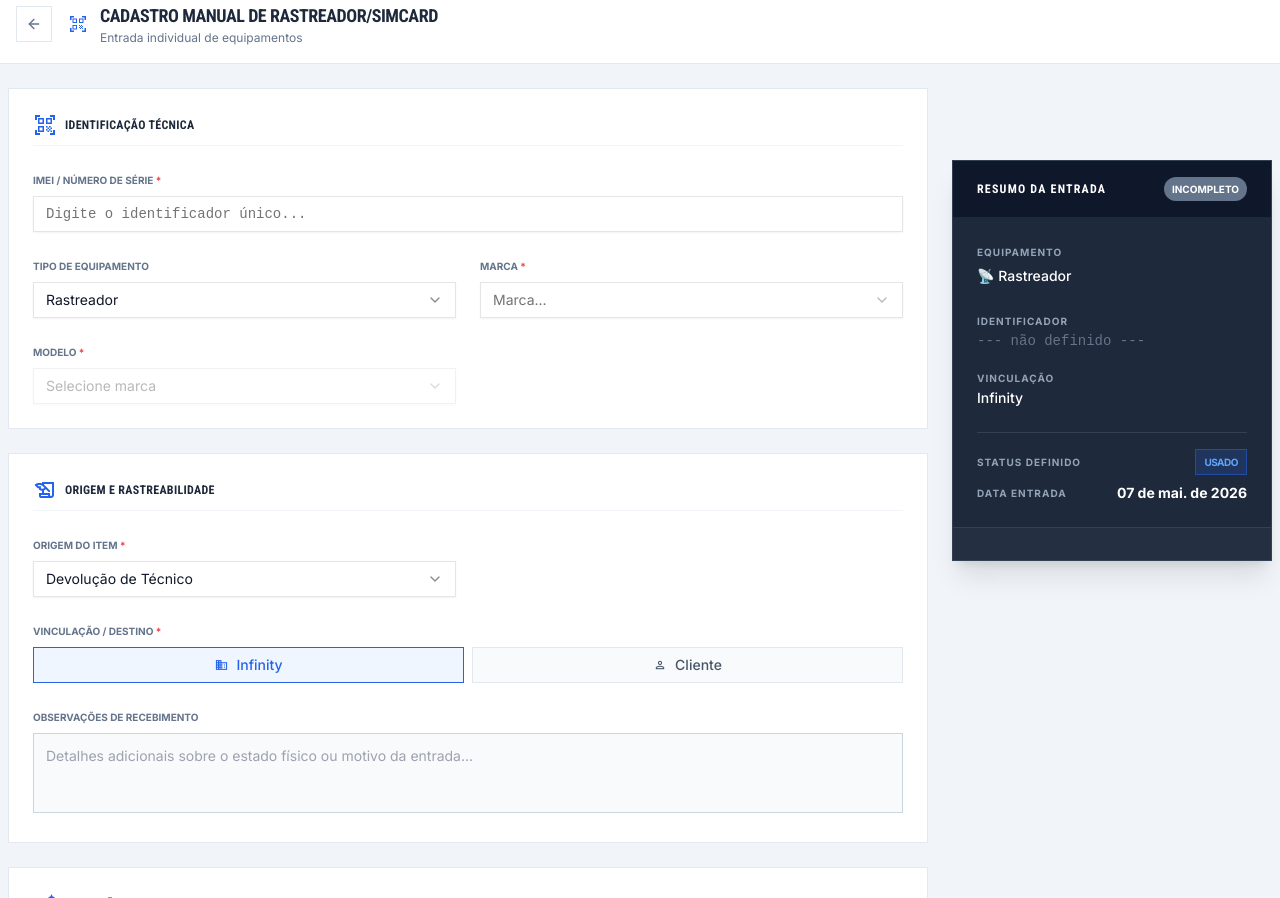
Test: CadastroIndividualPage (integrado, APIs mockadas) › formulário válido: resumo exibe PRONTO antes de salvar
Expected: the heading "Identificação Técnica" is shown, [65, 117, 194, 133]
Step 1. Type "123456789012345" into the field with placeholder "Digite o identificador único..." → (468, 214), box [33, 196, 903, 232]
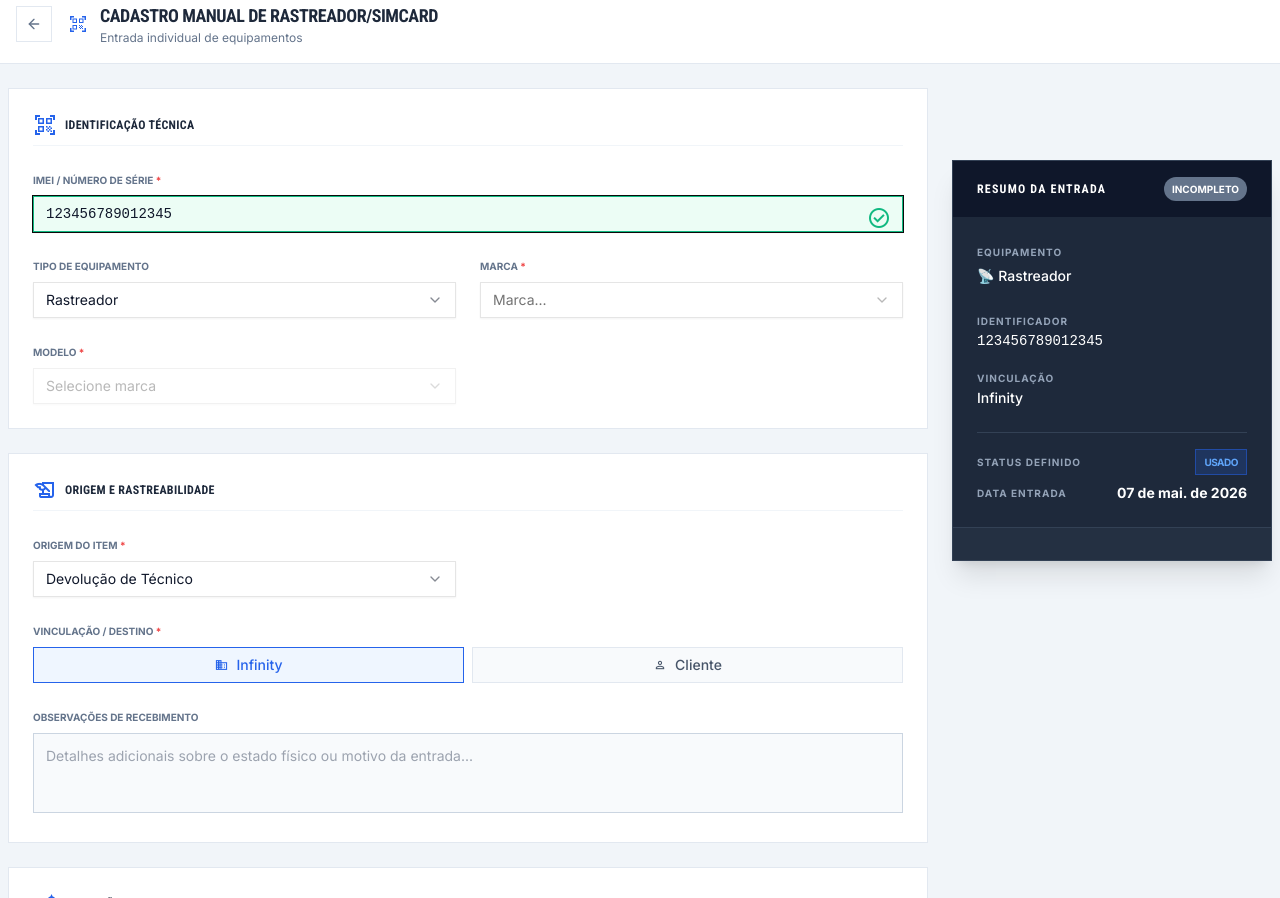
Step 2. Click the dropdown labelled "Marca..." → (520, 300), box [480, 282, 903, 318]
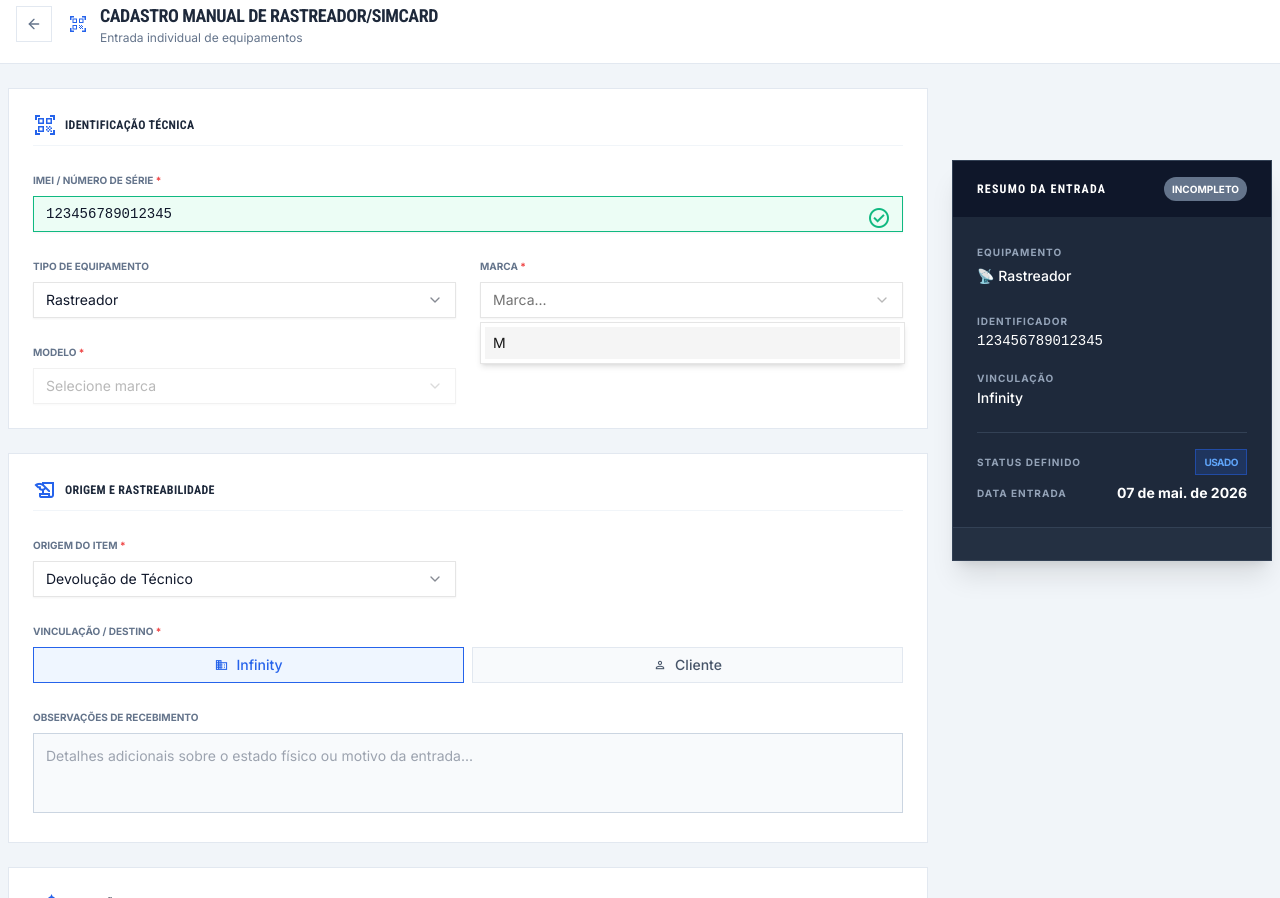
Step 3. Click the option "M" → (499, 342), box [485, 327, 900, 359]
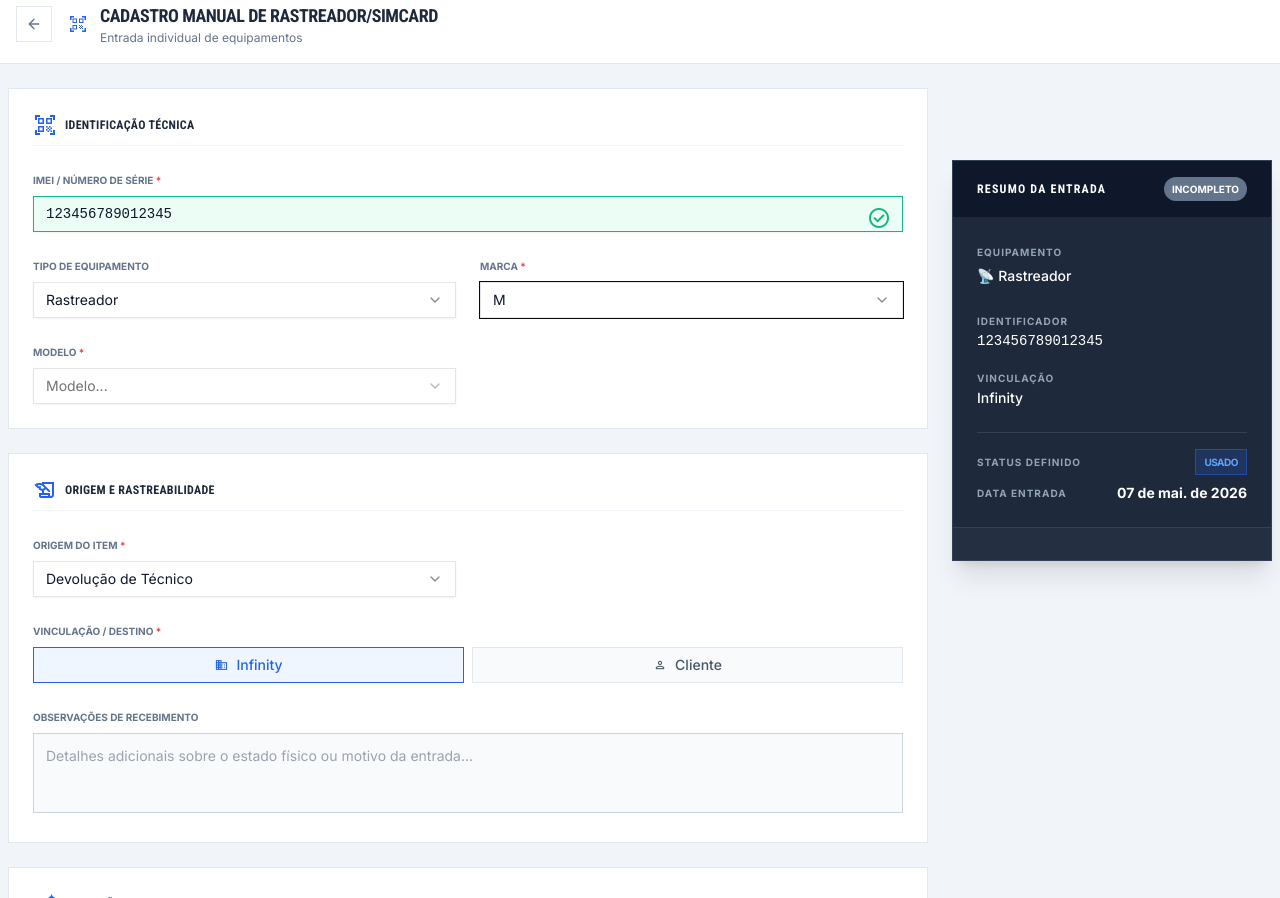
Step 4. Click the dropdown labelled "Modelo..." → (77, 386), box [33, 368, 456, 404]
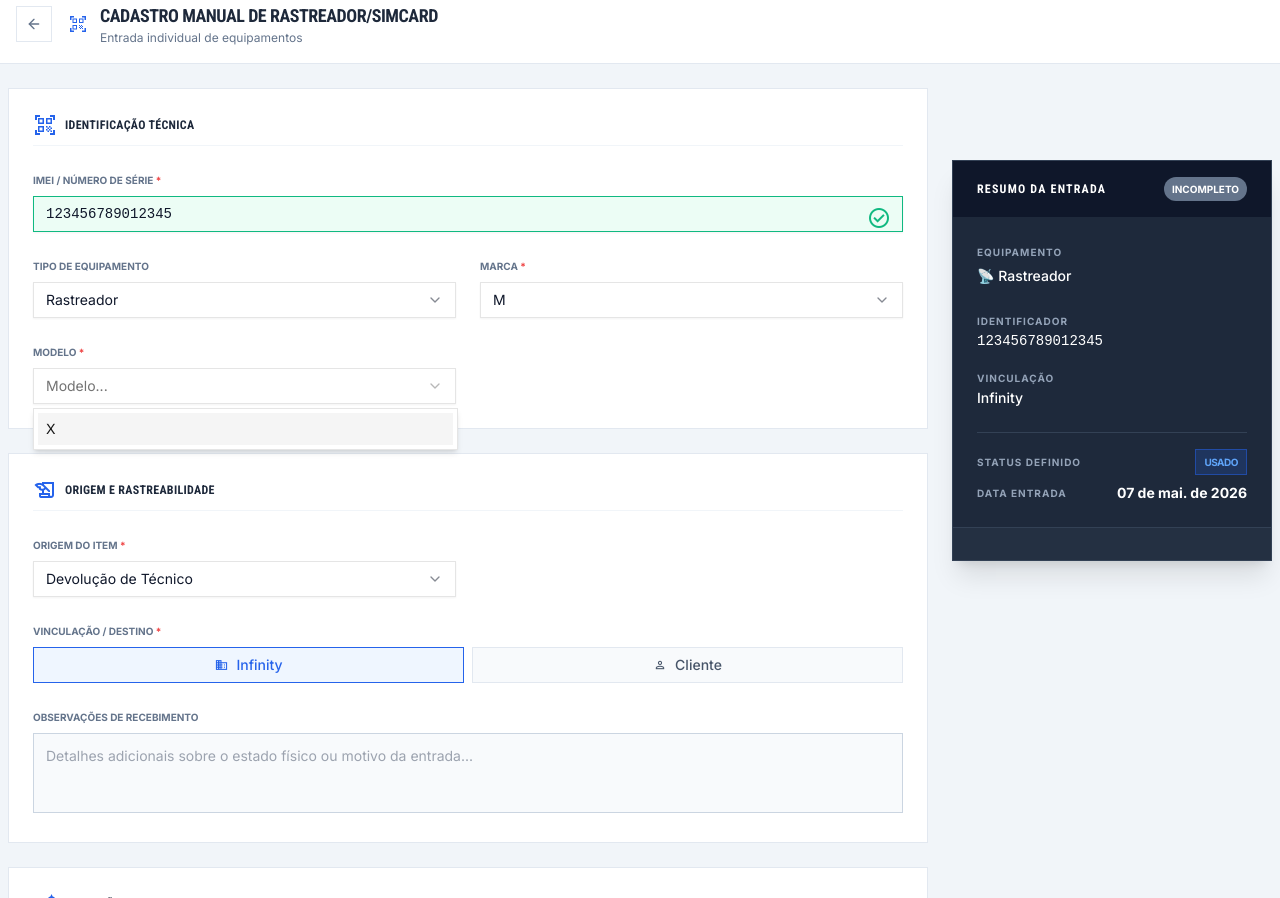
Step 5. Click the option "X" → (51, 428), box [38, 413, 453, 445]
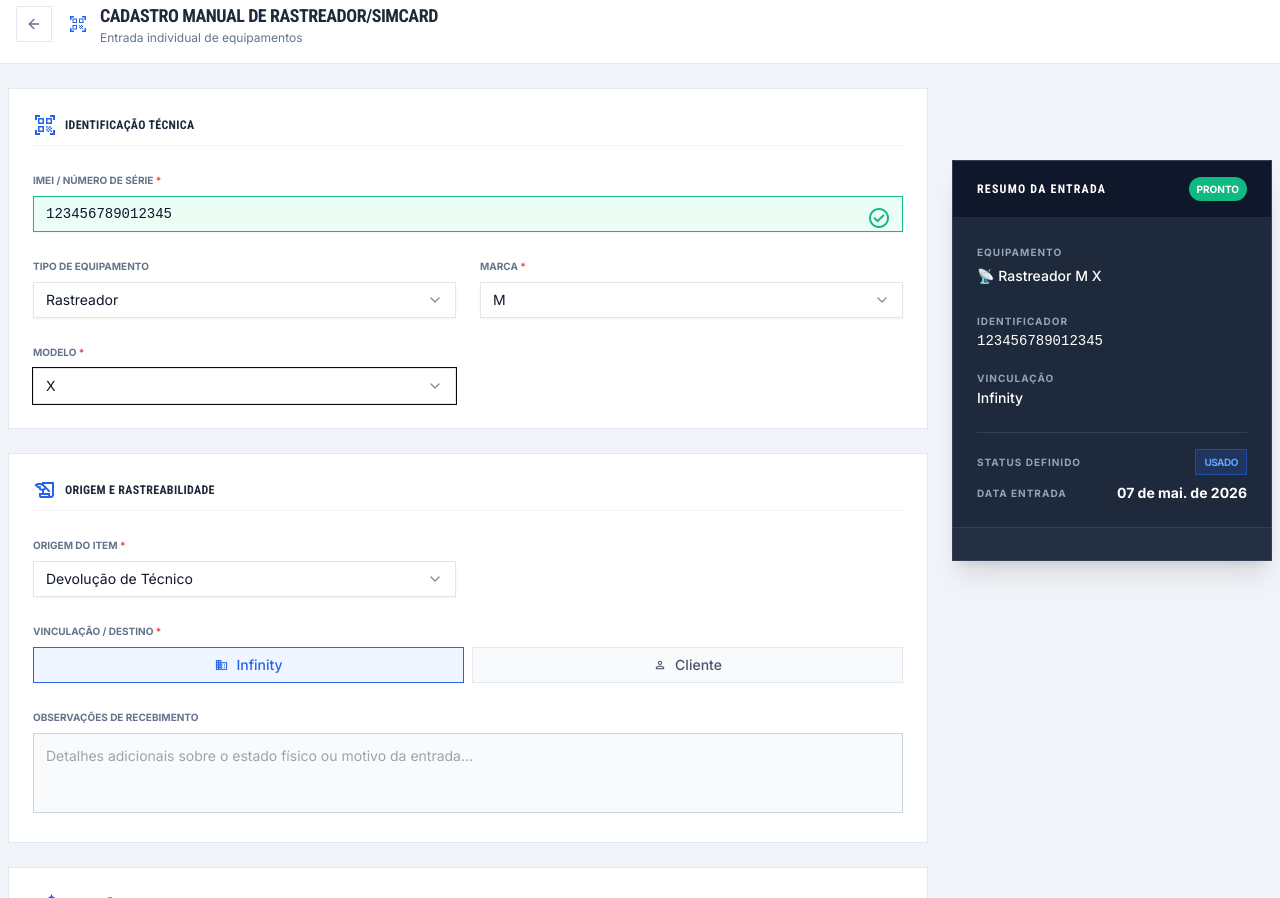
Expected: the text "PRONTO" is shown, [1189, 177, 1247, 201]
